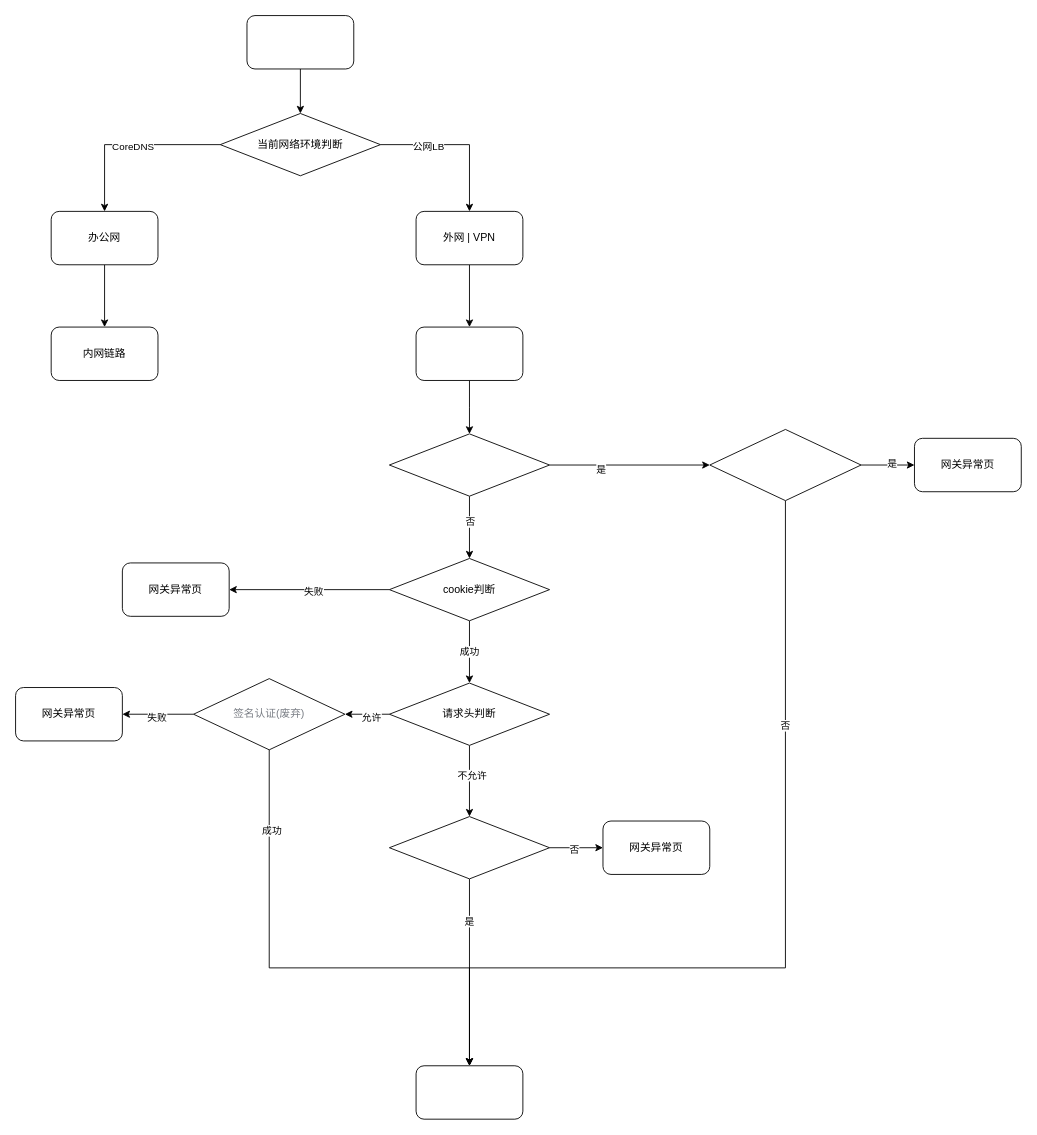
The diagram is 1037 pixels wide and 1135 high, and some of its shapes have lost their labels. Here are the shapes that lost their labels. From the top down, the centre of each, then its label:
At (300,42): "请求流量".
At (469,353): "信息化网关".
At (469,464): "出口IP白名单判断(CIDR)".
At (785,465): "限流+熔断判断".
At (469,847): "vpn登录态判断".
At (469,1092): "请求转发".
